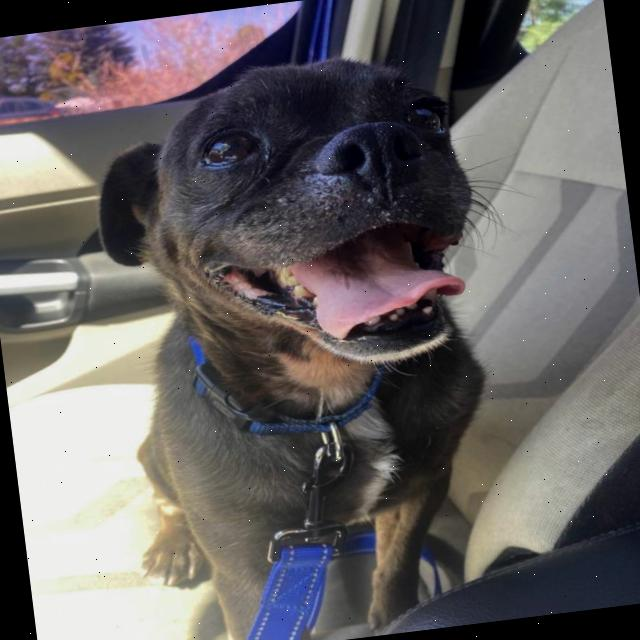pug_dog: (69, 26, 530, 430)
